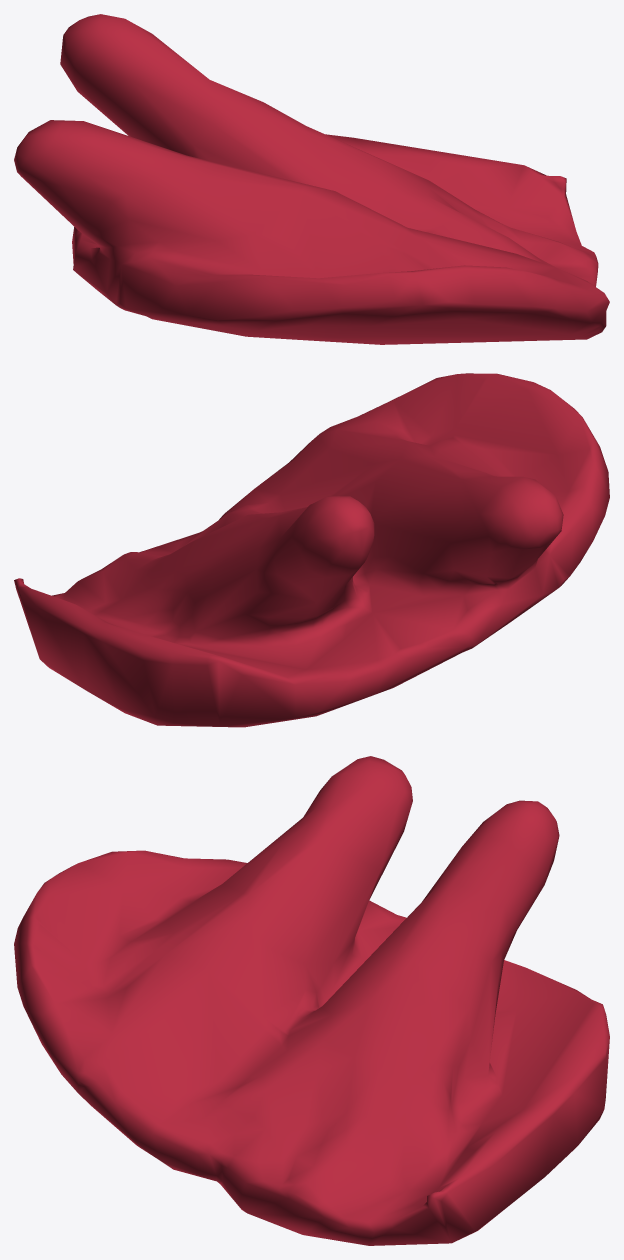
File: inferior-papillary-muscle-of-right-ventricle.glb
3 views of the same model, one above another, from view 1: azimuth 30°, elevation 25°; view 2: azimuth 150°, elevation 25°; view 3: azimuth 270°, elevation 25° (orthographic). The views are drawn at different scales.
Visible parts, largest first — view 1: Inferior papillary muscle of right ventricle; view 2: Inferior papillary muscle of right ventricle; view 3: Inferior papillary muscle of right ventricle.
Part boxes in pixels (x1,y1,x2,y2): Inferior papillary muscle of right ventricle: (14, 14, 609, 344); Inferior papillary muscle of right ventricle: (14, 373, 609, 727); Inferior papillary muscle of right ventricle: (14, 756, 609, 1245).
Size of the model in its own units: 0.0306 by 0.0149 by 0.0296.
